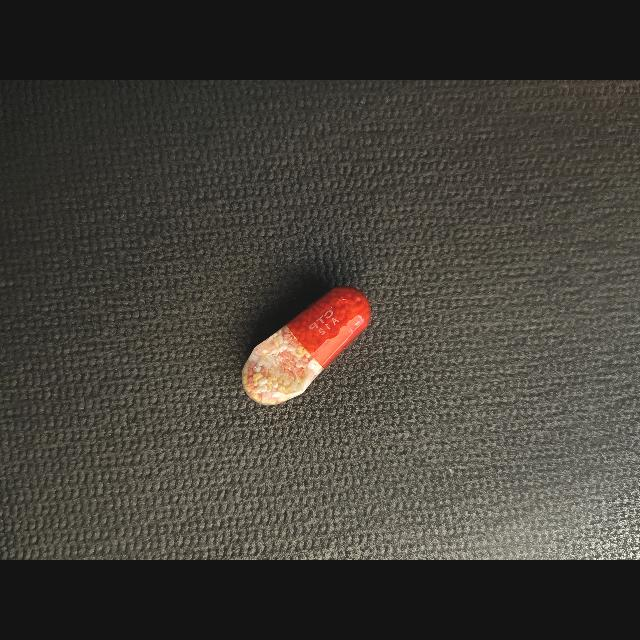Defective Capsule: (242, 286, 371, 405)
